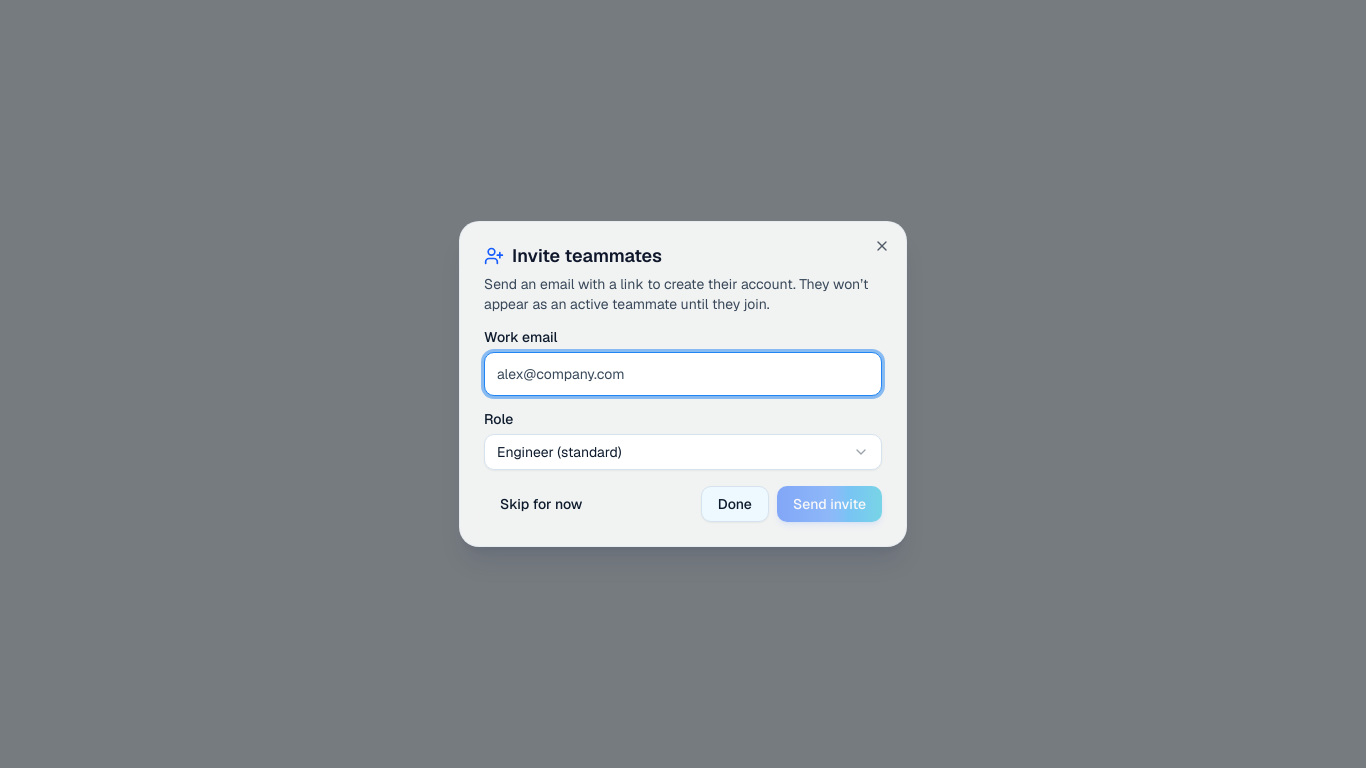
Test: InviteUsersDialog › shows an API error without closing the dialog
In the field labelled "Work email": (683,374) [484,352,882,396], type "dup@company.com"
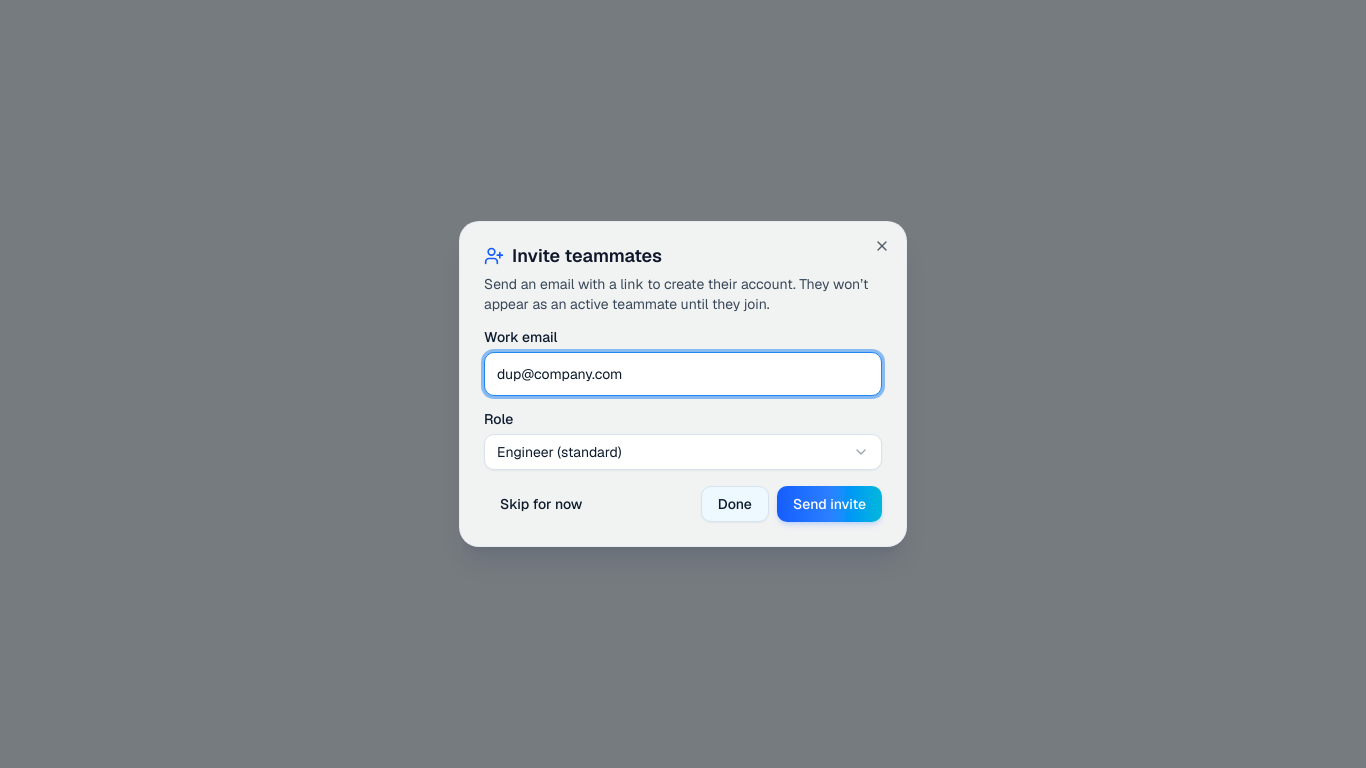
Click the button "Send invite": (829,504) [777,486,882,522]
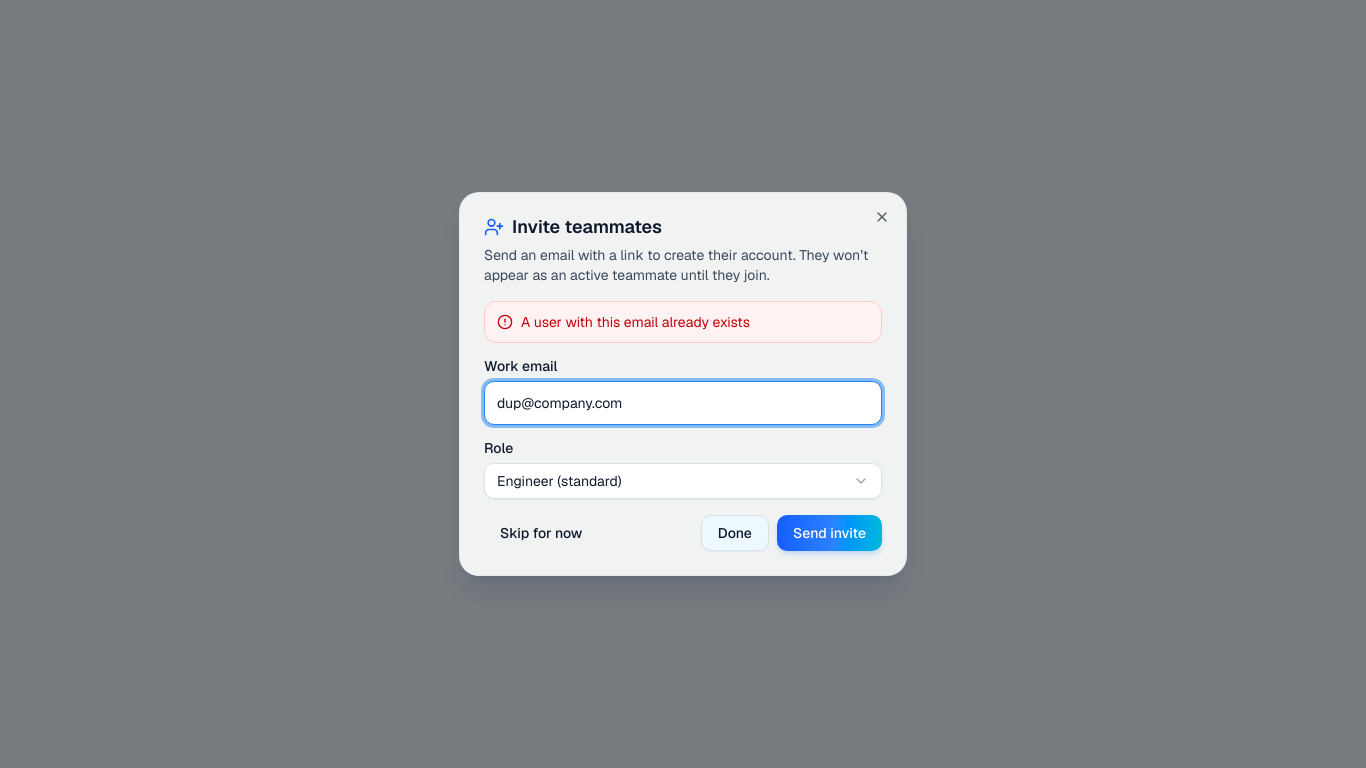
Expected: the text "A user with this email already exists" is shown, [521,312,750,332]
